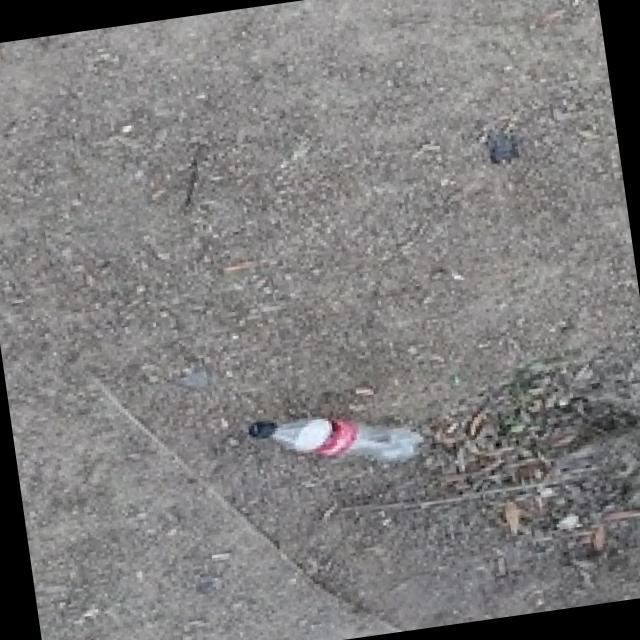good: (246, 390, 428, 484)
